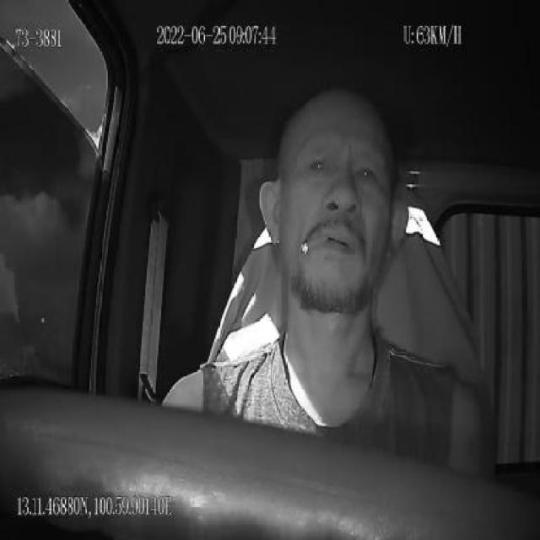smoking: (300, 236, 328, 253)
